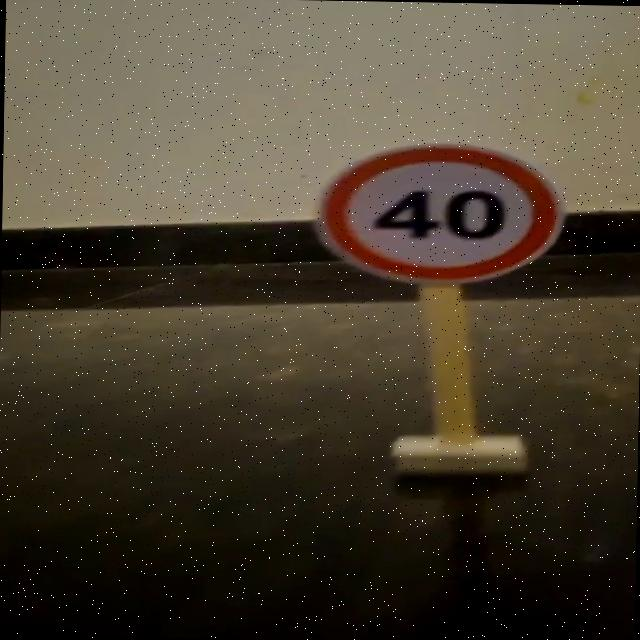Speed40: (306, 136, 573, 292)
